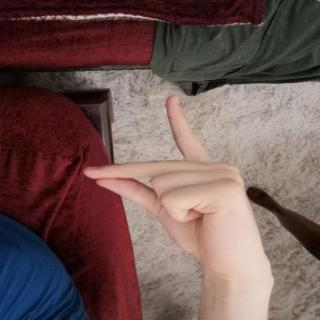TAA: (73, 90, 273, 274)
